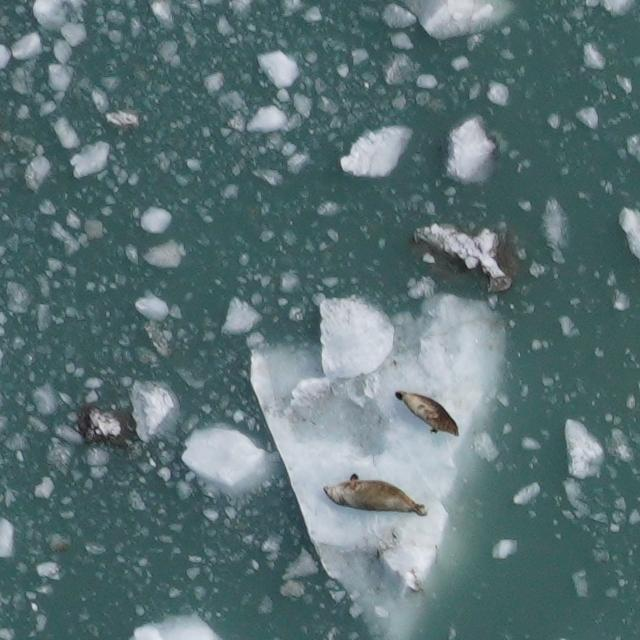seal: (318, 471, 433, 520), (390, 387, 463, 441)
